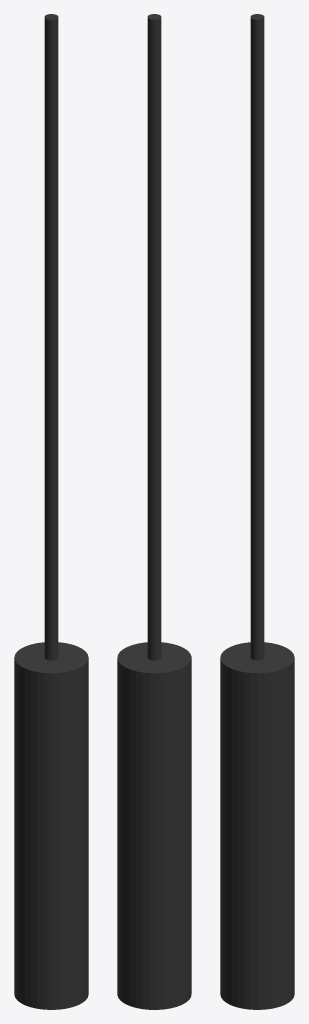
File: SM_Build_Pendelleuchte.fbx
3 renders of one model, left to right at view 1: azimuth 90°, elevation 25°; view 2: azimuth 150°, elevation 25°; view 3: azimuth 270°, elevation 25°, orthographic.
Parts seen in each view (by area): view 1: Pendelleuchte; view 2: Pendelleuchte; view 3: Pendelleuchte.
Part boxes in pixels (left/top/right/bottom): Pendelleuchte: left=14, top=14, right=88, bottom=1009; Pendelleuchte: left=117, top=14, right=191, bottom=1009; Pendelleuchte: left=220, top=14, right=294, bottom=1009.
Bounding box in the file's own units: 0.1 × 1.45 × 0.1.
